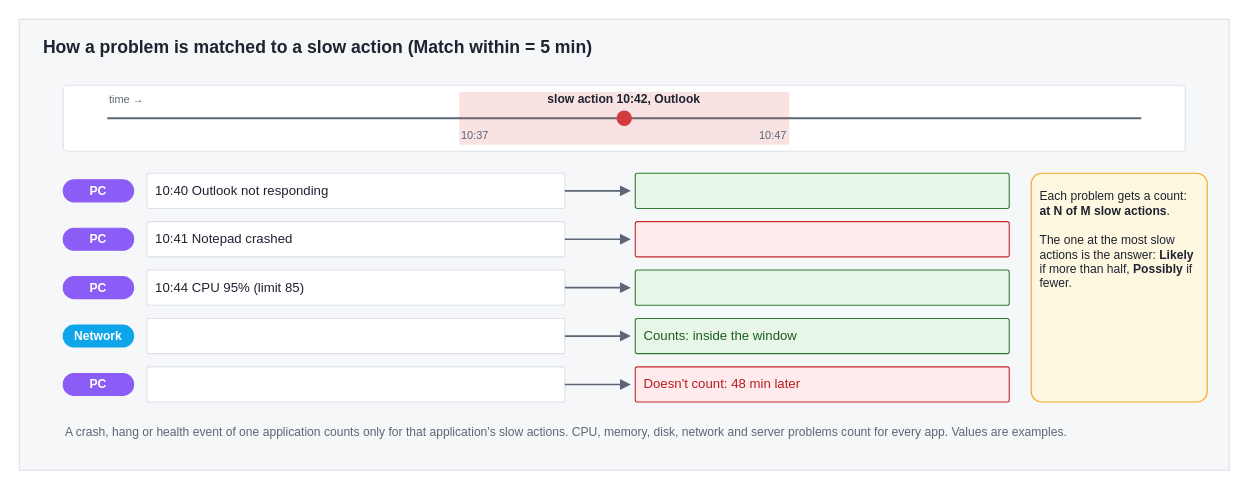
This 1249x490 diagram has some shape labels left out. Here are the shapes that lost their labels. From the top down, the centre of each, then its label:
point (821, 190): Counts: same app, inside the window
point (821, 239): Doesn't count: another application
point (821, 287): Counts: CPU slows every app
point (355, 335): 10:45 Branch router Gi0/1 utilization 97%
point (355, 384): 11:30 Disk queue 6 (limit 2)
